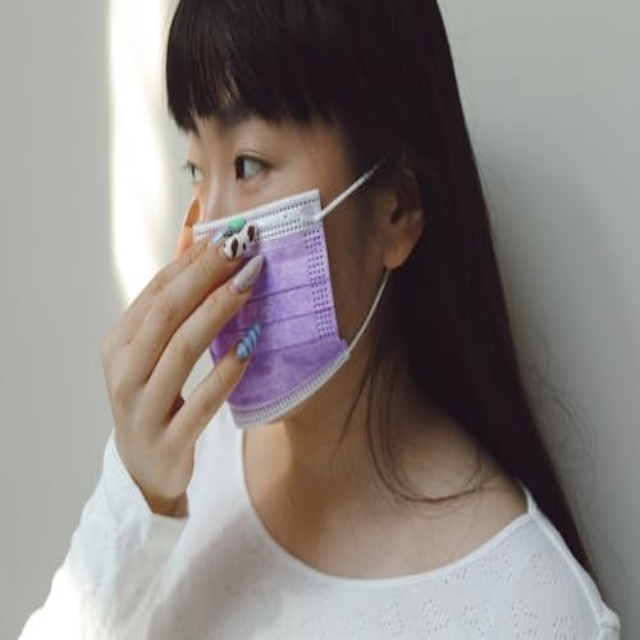Mascara: (193, 158, 396, 430)
Sin_gafas: (173, 110, 312, 186)
